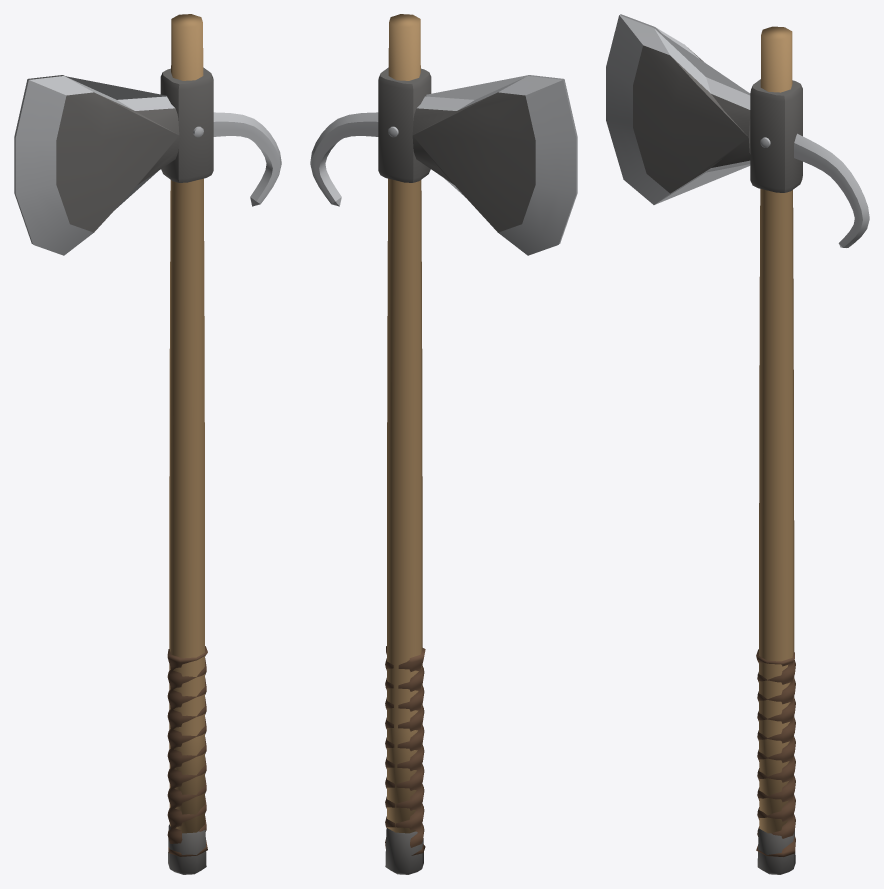
File: hooked-axe.glb
The picture shows the model from 3 angles, left to right: view 1: azimuth 30°, elevation 25°; view 2: azimuth 150°, elevation 25°; view 3: azimuth 330°, elevation 25°; orthographic projection.
Visible parts, largest first — view 1: hooked-axe; view 2: hooked-axe; view 3: hooked-axe.
Boxes of the visible parts, <box> form: hooked-axe: <box>14,14,281,874</box>; hooked-axe: <box>310,14,577,874</box>; hooked-axe: <box>606,14,869,874</box>.
Bounding box in the file's own units: 0.6782 × 2.06 × 0.1161.
